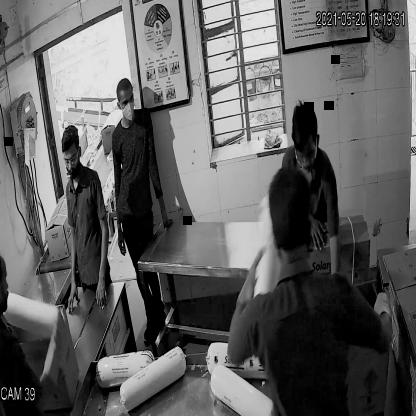goggles: (293, 140, 320, 167), (59, 146, 81, 168)
no_goggles: (115, 94, 138, 112)
